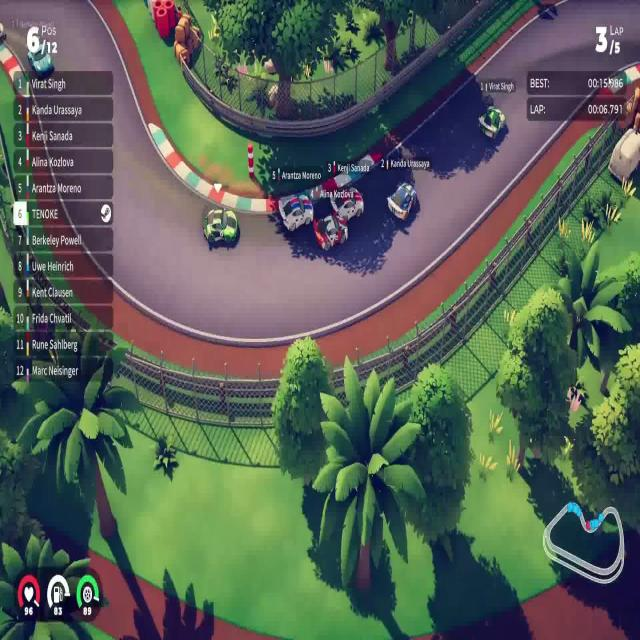car: (202, 205, 240, 250), (277, 192, 314, 234), (313, 212, 348, 251), (386, 180, 417, 222), (329, 186, 364, 223), (476, 104, 506, 140)
